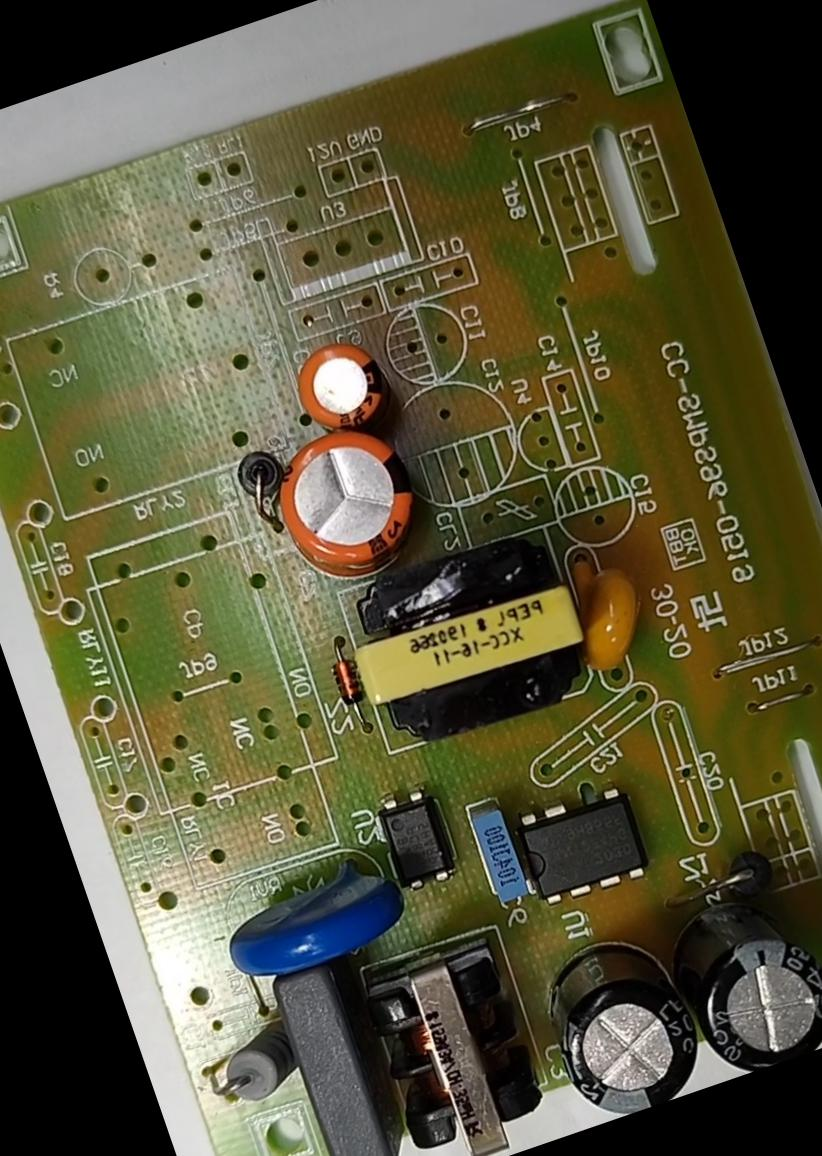Cap1: (246, 404, 450, 601)
Cap2: (268, 316, 416, 452)
Cap3: (520, 919, 716, 1131)
Cap4: (654, 875, 821, 1086)
MOSFET: (501, 764, 667, 920)
Mov: (203, 844, 427, 1005)
Resistor: (192, 1012, 320, 1126)
Transformer: (327, 521, 617, 764), (341, 922, 563, 1155)
